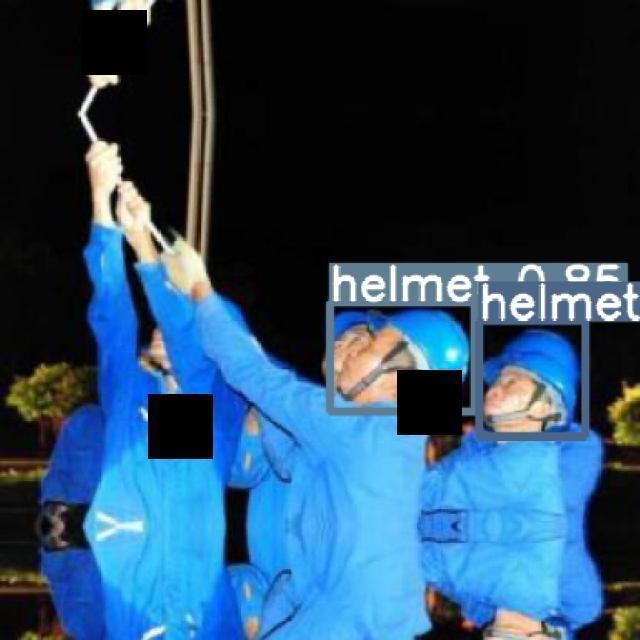blue helmet: (331, 286, 479, 391), (494, 323, 599, 441)
